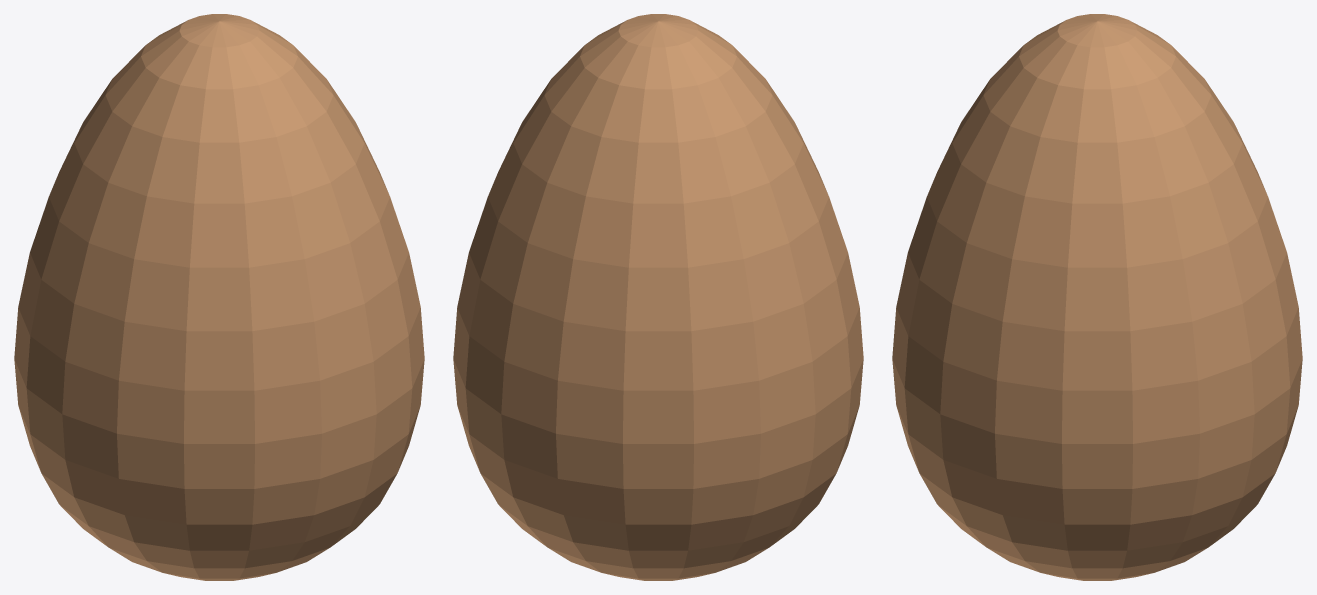
The model's file is Egg.fbx.
3 views of the same model, side by side, from view 1: azimuth 30°, elevation 25°; view 2: azimuth 150°, elevation 25°; view 3: azimuth 270°, elevation 25° (orthographic).
Visible parts, largest first — view 1: Sphere; view 2: Sphere; view 3: Sphere.
Boxes of the visible parts, <box> form: Sphere: <box>14,14,424,580</box>; Sphere: <box>453,14,863,580</box>; Sphere: <box>892,14,1302,580</box>.
Size of the model in its own units: 197 by 291 by 200.
